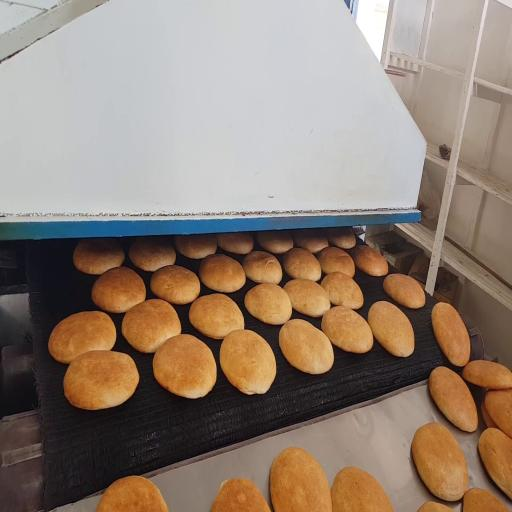bread: (64, 351, 139, 410), (412, 423, 468, 501), (153, 335, 216, 398), (270, 448, 332, 511), (220, 330, 276, 394), (49, 311, 116, 363), (122, 299, 181, 353), (429, 367, 478, 431), (279, 320, 333, 374), (332, 467, 393, 511), (368, 301, 414, 356), (96, 476, 168, 511), (189, 294, 244, 339), (92, 267, 145, 313), (432, 302, 470, 366), (322, 306, 373, 353), (478, 428, 511, 499), (244, 283, 292, 325), (211, 479, 270, 511), (151, 266, 200, 304), (73, 238, 124, 274), (199, 254, 245, 292), (284, 279, 330, 317), (129, 237, 175, 272), (321, 272, 363, 309), (383, 274, 425, 309), (463, 360, 511, 390), (242, 251, 282, 283), (283, 248, 321, 281), (485, 389, 511, 437), (174, 234, 217, 260), (317, 247, 354, 277), (463, 488, 508, 511), (354, 246, 388, 276), (257, 231, 293, 254), (294, 229, 328, 253), (216, 233, 253, 254), (327, 228, 355, 249), (481, 400, 497, 428), (418, 502, 452, 511)
